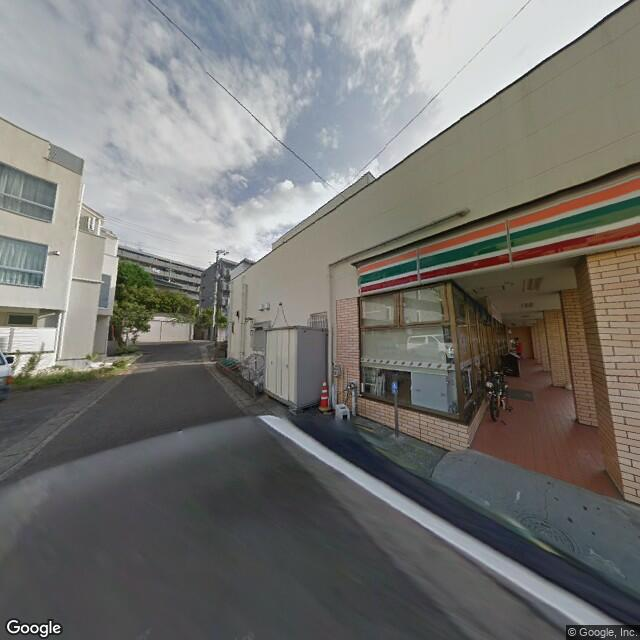7-eleven: (355, 167, 640, 301)
